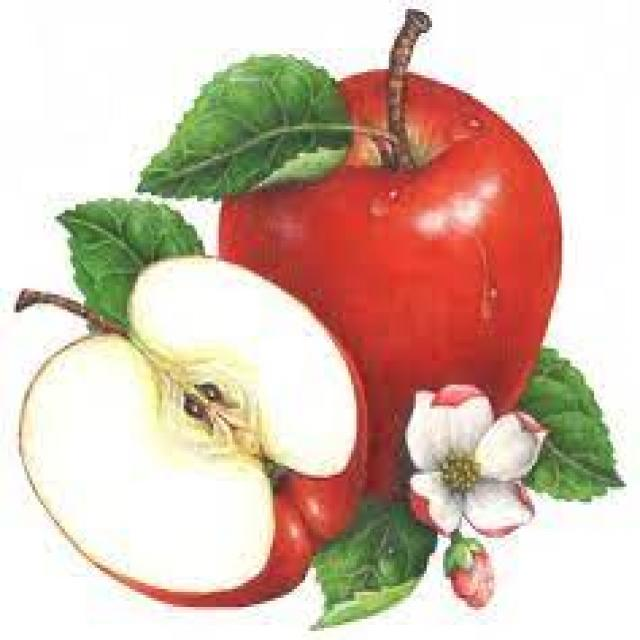Apple: (229, 71, 563, 447), (18, 255, 368, 606)
